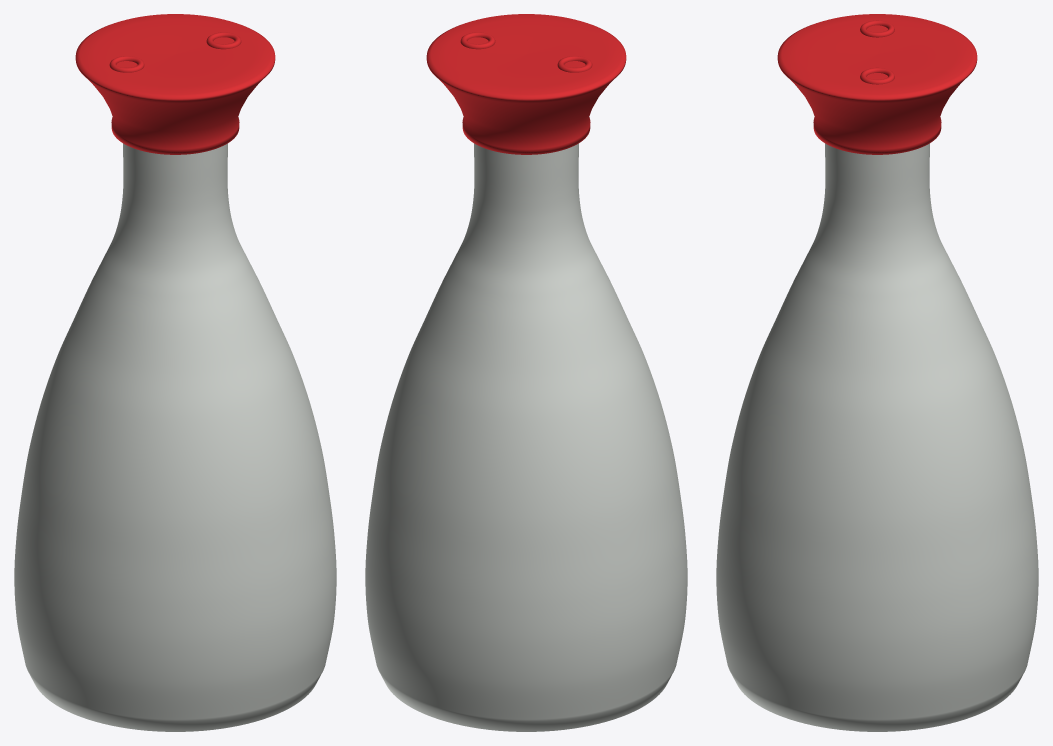
Rendered from sojasaucen-flasche_V3.glb.
3 views of the same model, side by side, from view 1: azimuth 30°, elevation 25°; view 2: azimuth 150°, elevation 25°; view 3: azimuth 270°, elevation 25° (orthographic).
Visible parts, largest first — view 1: bottle_glass, cap; view 2: bottle_glass, cap; view 3: bottle_glass, cap.
Part boxes in pixels (box(x1,y1,x2,y2)): bottle_glass: box(14, 143, 336, 731); cap: box(75, 14, 275, 154); bottle_glass: box(365, 143, 687, 731); cap: box(426, 14, 626, 154); bottle_glass: box(716, 143, 1038, 731); cap: box(777, 14, 977, 154).
Bounding box in the file's own units: 0.0662 × 0.1417 × 0.0662.
